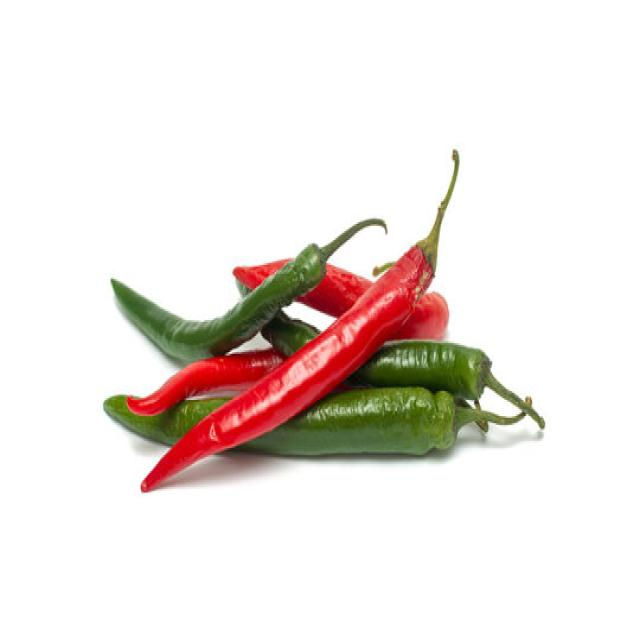Chilli: (99, 334, 428, 500), (121, 213, 400, 360), (231, 252, 449, 340), (351, 338, 545, 428)
